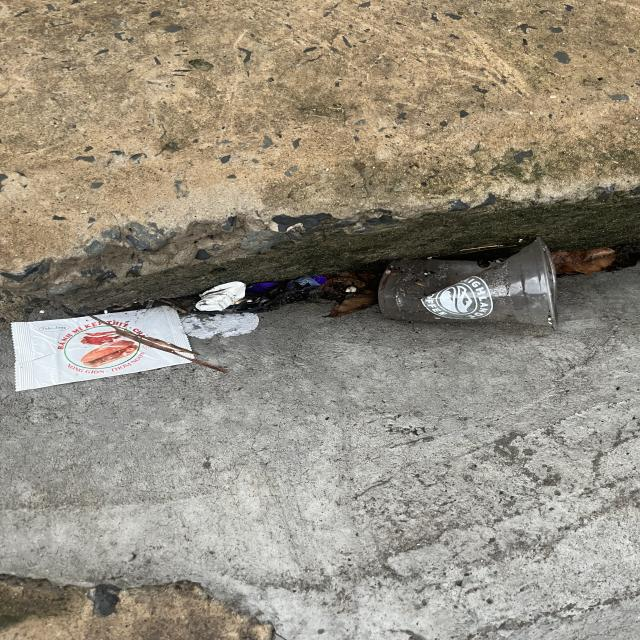packet: (7, 304, 199, 394)
plastic glass: (375, 232, 563, 328)
